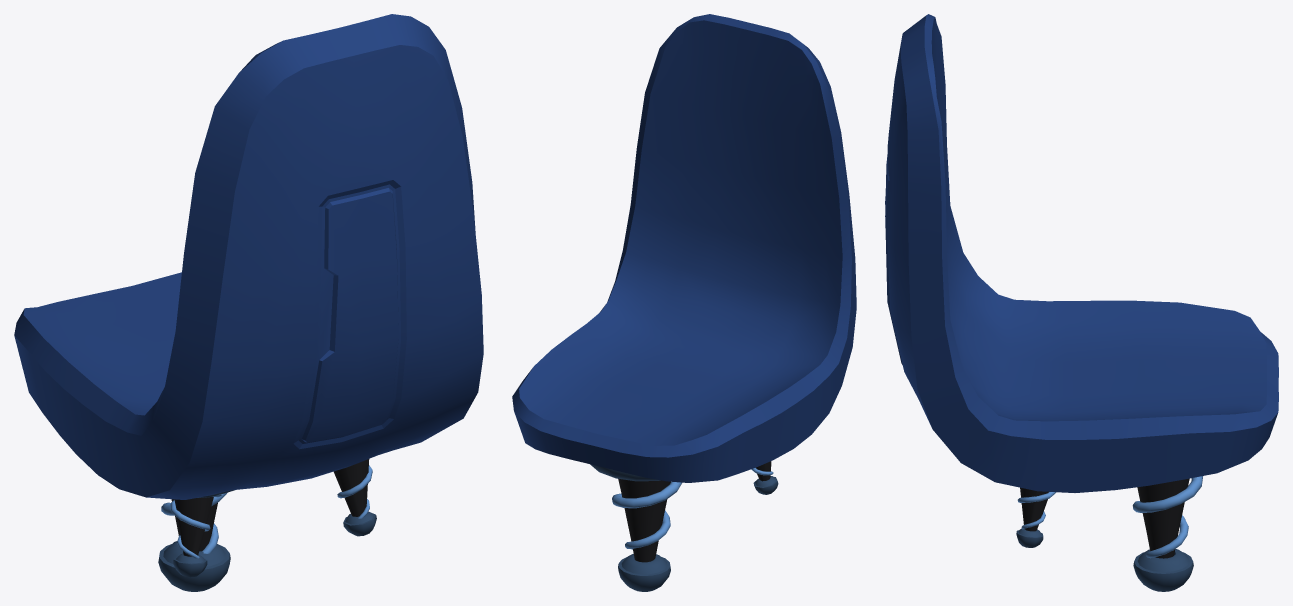
Rendered from Furn_ChairFloating_Blue_C.glb.
3 renders of one model, left to right at view 1: azimuth 30°, elevation 25°; view 2: azimuth 150°, elevation 25°; view 3: azimuth 270°, elevation 25°, orthographic. The views are drawn at different scales.
Parts seen in each view (by area): view 1: Furn_ChairFloating_Blue_C.001; view 2: Furn_ChairFloating_Blue_C.001; view 3: Furn_ChairFloating_Blue_C.001.
Part boxes in pixels (x1,y1,x2,y2): Furn_ChairFloating_Blue_C.001: [14, 14, 483, 591]; Furn_ChairFloating_Blue_C.001: [512, 14, 856, 591]; Furn_ChairFloating_Blue_C.001: [885, 14, 1278, 591].
Bounding box in the file's own units: 0.3562 × 0.7057 × 0.4591.
